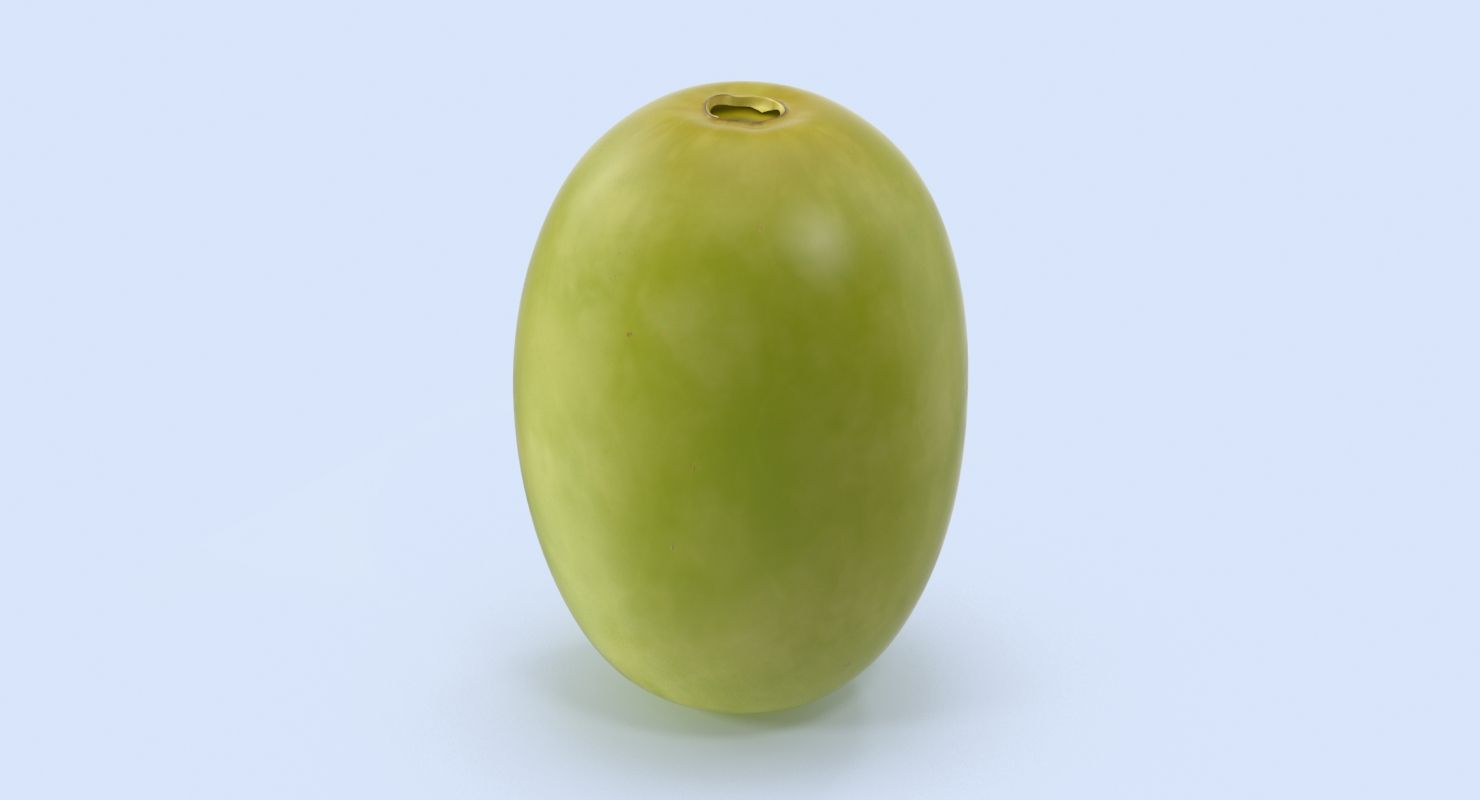grapes: (500, 63, 1059, 774)
